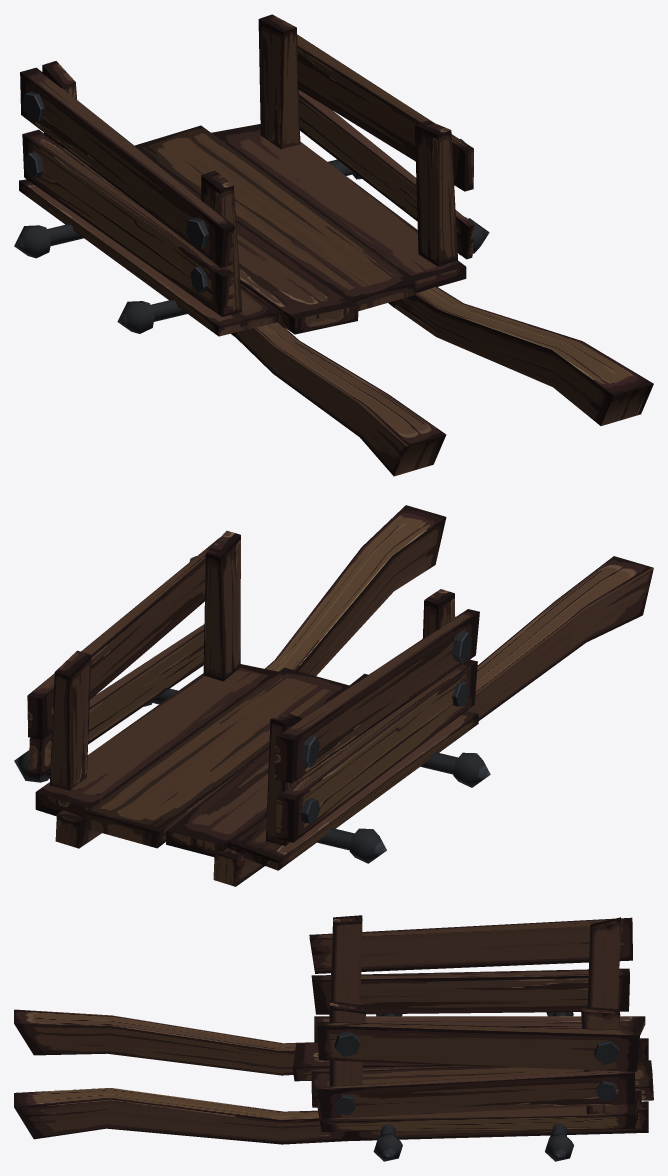
Rendered from SM_PROP_cart_dungeon_02.fbx.
3 renders of one model, top to bottom at view 1: azimuth 30°, elevation 25°; view 2: azimuth 150°, elevation 25°; view 3: azimuth 270°, elevation 25°, orthographic. The views are drawn at different scales.
Parts seen in each view (by area): view 1: SM_PROP_cart_dungeon_02; view 2: SM_PROP_cart_dungeon_02; view 3: SM_PROP_cart_dungeon_02.
Boxes of the visible parts, bbox=[...] form: SM_PROP_cart_dungeon_02: bbox=[14, 14, 653, 476]; SM_PROP_cart_dungeon_02: bbox=[14, 505, 653, 886]; SM_PROP_cart_dungeon_02: bbox=[14, 915, 653, 1161].
Size of what is drawn, in the model's own units: 278 by 126 by 499.
